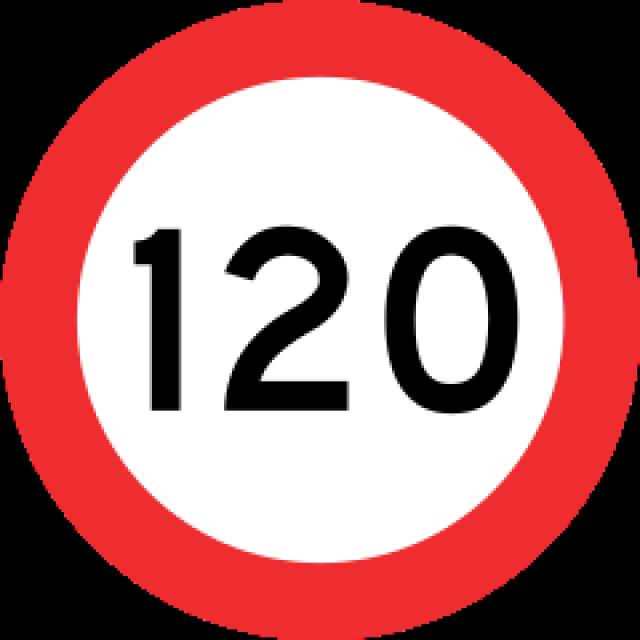Speed Limit -120-: (116, 208, 537, 438)
